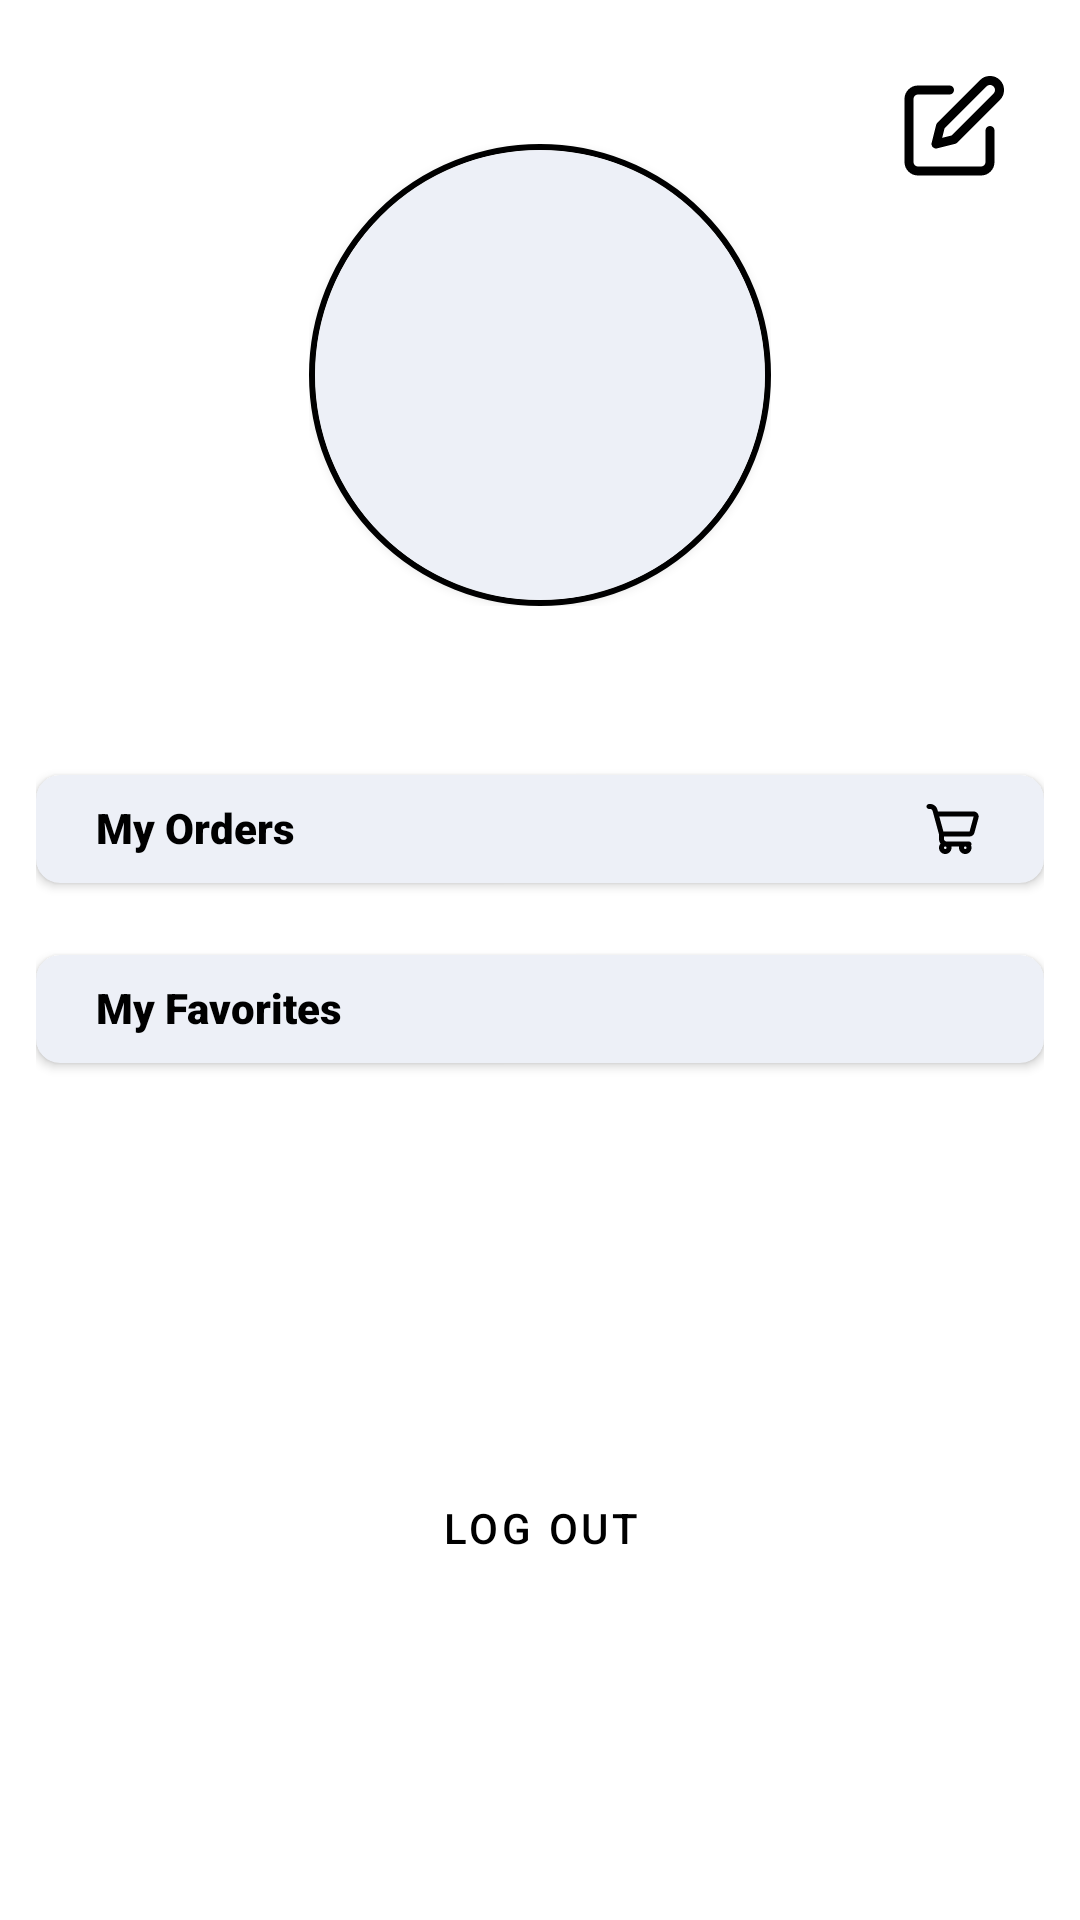

Screen size 1080*1920. Icon name, then its center in pixels as (x=x, y=y):
cart: (x=952, y=829)
user edit: (x=954, y=126)
